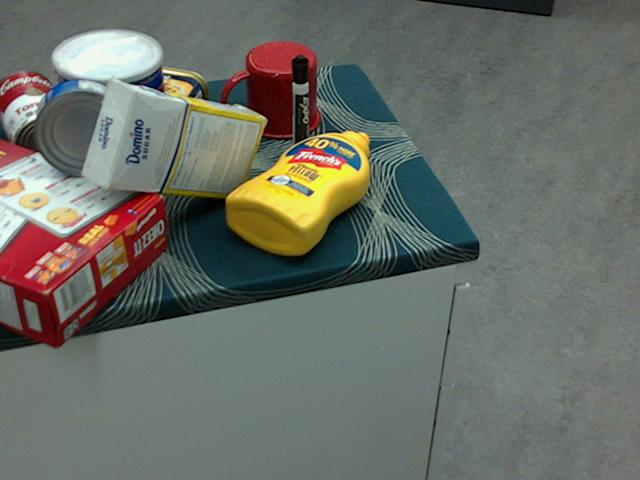cracker_box: (0, 138, 167, 344)
large_marker: (290, 54, 309, 159)
master_chef_can: (53, 31, 168, 201)
mug: (219, 42, 319, 139)
mustard_bottle: (225, 129, 370, 254)
potted_meat_can: (98, 63, 208, 150)
sugar_box: (82, 81, 265, 198)
tomato_soup_can: (0, 68, 77, 169)
tuna_fish_can: (33, 79, 131, 176)
